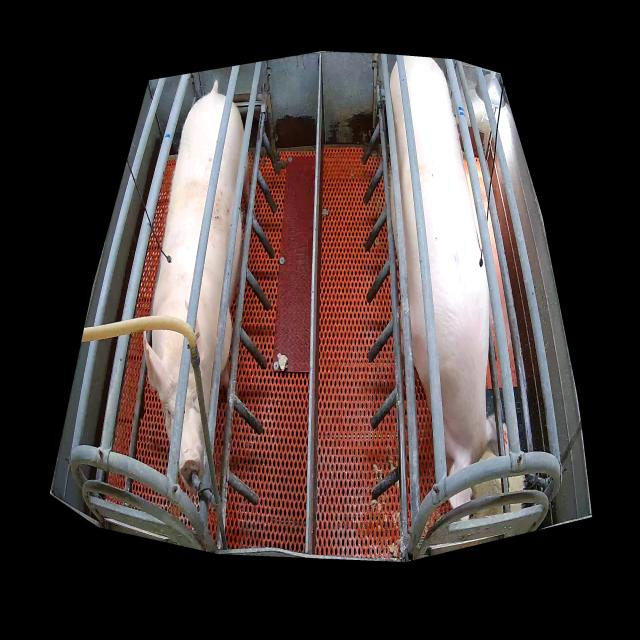pig: (390, 57, 497, 508), (144, 92, 251, 492)
